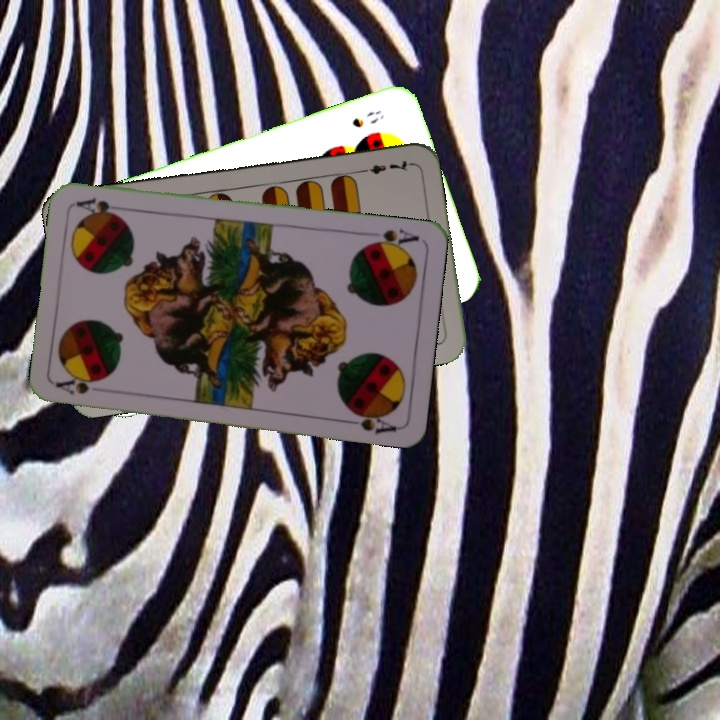E7: (354, 156, 413, 177)
S8: (348, 107, 387, 131)
SA: (362, 224, 422, 253), (53, 374, 103, 397)
